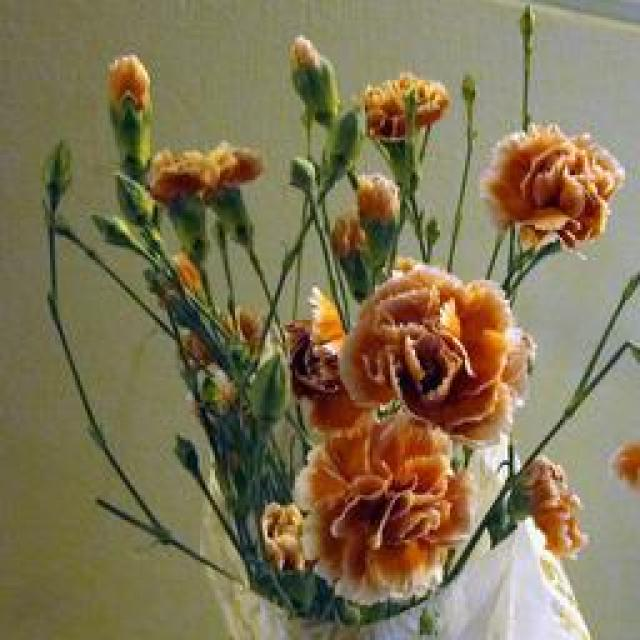carnation: (282, 408, 498, 611)
